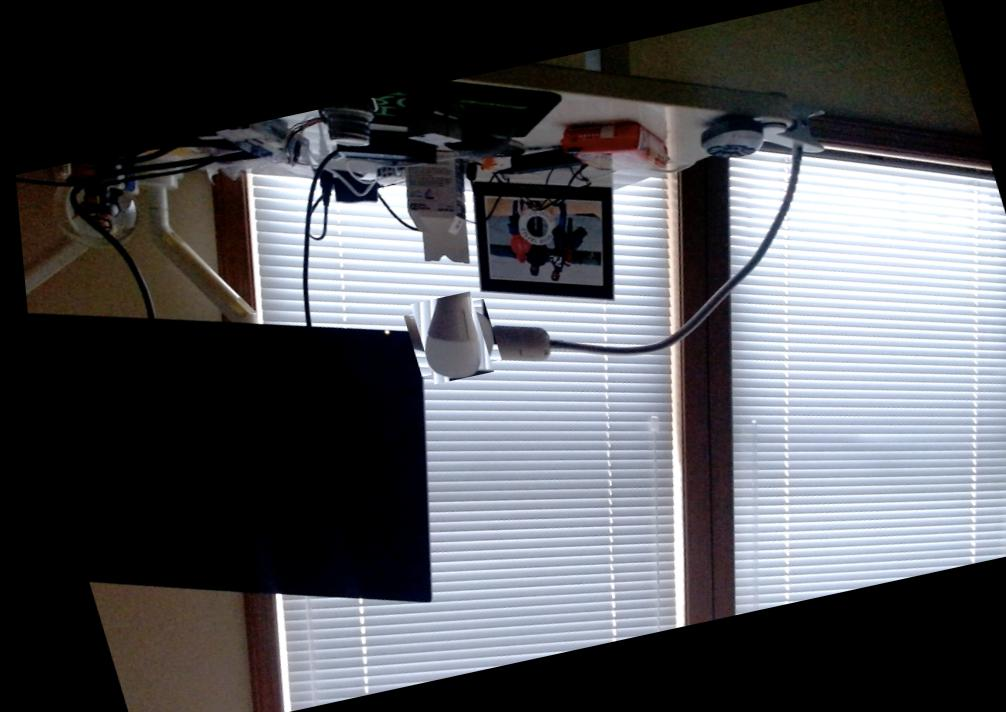Fan: (399, 294, 491, 380)
